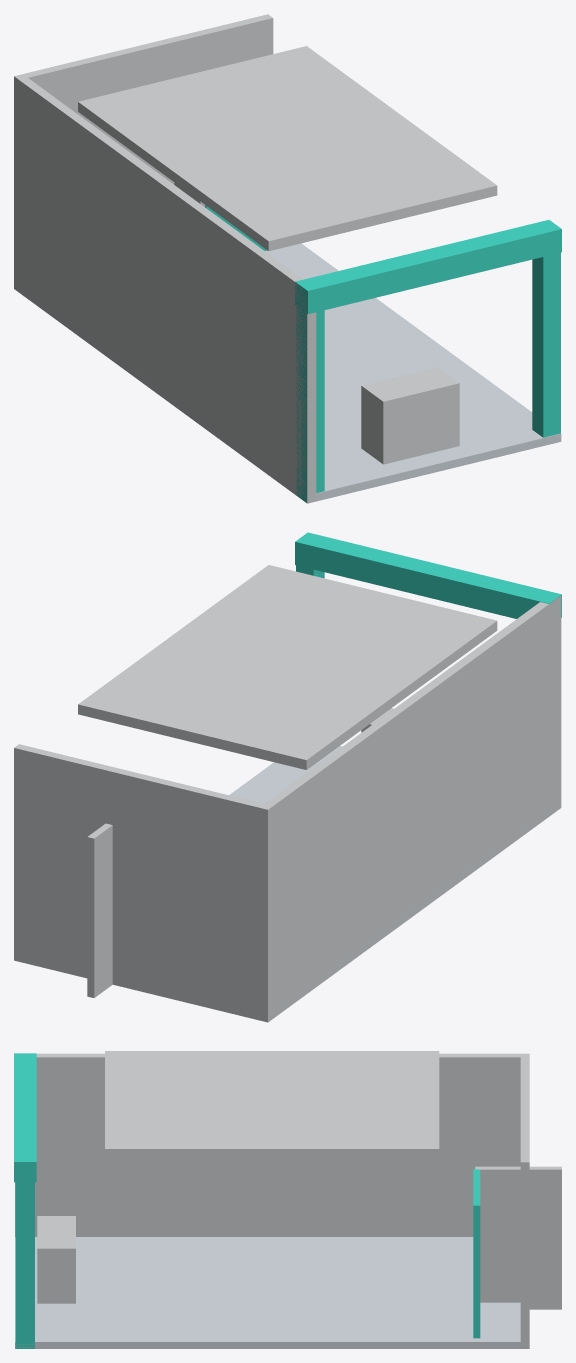
3 views of the same model, one above another, from view 1: azimuth 30°, elevation 25°; view 2: azimuth 150°, elevation 25°; view 3: azimuth 270°, elevation 25° (orthographic). The views are drawn at different scales.
Visible parts, largest first — view 1: Exhibition Booth Concept; view 2: Exhibition Booth Concept; view 3: Exhibition Booth Concept.
Boxes of the visible parts, <box> form: Exhibition Booth Concept: <box>14,14,561,503</box>; Exhibition Booth Concept: <box>14,532,561,1022</box>; Exhibition Booth Concept: <box>14,1051,561,1348</box>.
Bounding box in the file's own units: 4 × 3.34 × 8.52.
